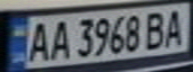3: (72, 15, 96, 60)
6: (109, 12, 127, 55)
8: (124, 11, 145, 52)
9: (90, 14, 112, 56)
A: (24, 18, 54, 63), (160, 6, 190, 48), (45, 17, 72, 61)
B: (142, 8, 172, 51)
